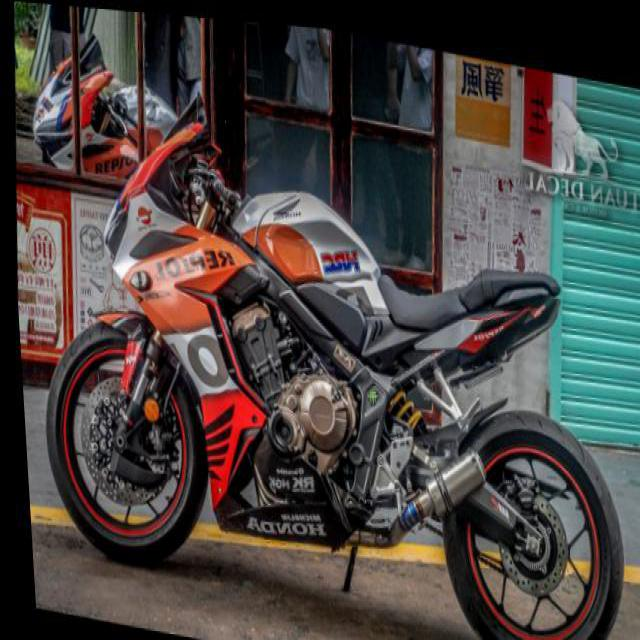CBR650R: (15, 52, 639, 638)
